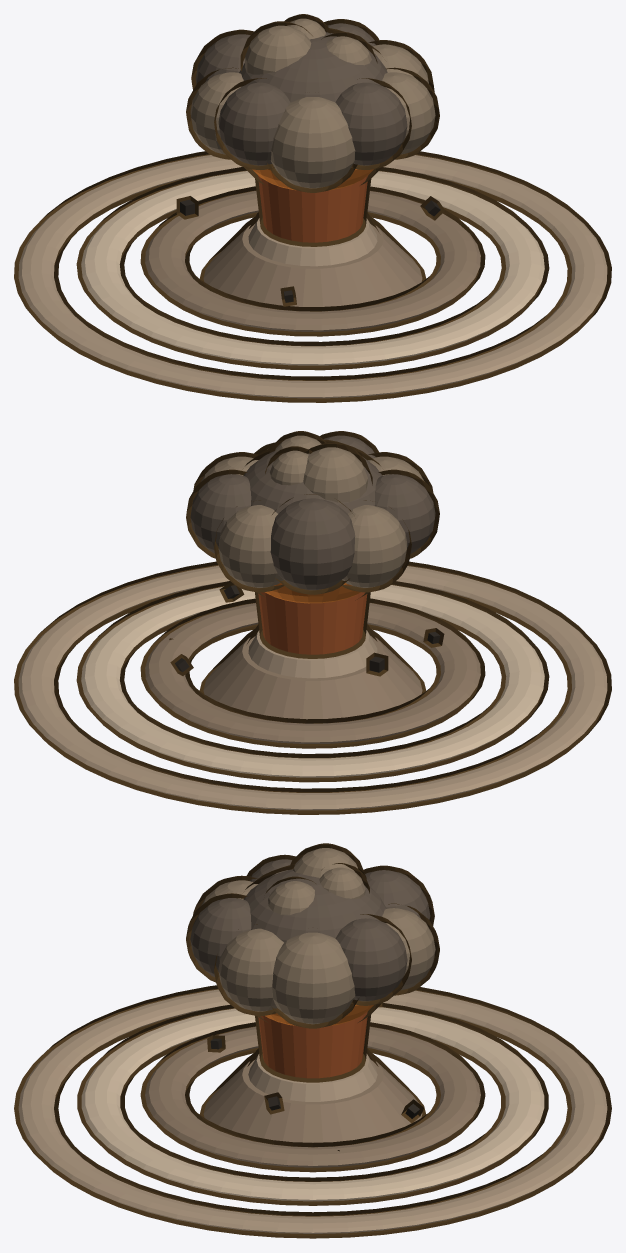
Rendered from mushroom_cloud.glb.
3 views of the same model, one above another, from view 1: azimuth 30°, elevation 25°; view 2: azimuth 150°, elevation 25°; view 3: azimuth 270°, elevation 25° (orthographic).
Parts seen in each view (by area): view 1: _MeshInstance3D_50, _MeshInstance3D_21, _MeshInstance3D_22, _MeshInstance3D_23, _MeshInstance3D_24, _MeshInstance3D_38, _MeshInstance3D_26, _MeshInstance3D_31, _MeshInstance3D_37, _MeshInstance3D_39, _MeshInstance3D_25, _MeshInstance3D_41 (+6 smaller); view 2: _MeshInstance3D_50, _MeshInstance3D_21, _MeshInstance3D_22, _MeshInstance3D_23, _MeshInstance3D_24, _MeshInstance3D_35, _MeshInstance3D_26, _MeshInstance3D_36, _MeshInstance3D_34, _MeshInstance3D_33, _MeshInstance3D_37, _MeshInstance3D_41 (+6 smaller); view 3: _MeshInstance3D_50, _MeshInstance3D_21, _MeshInstance3D_22, _MeshInstance3D_23, _MeshInstance3D_24, _MeshInstance3D_32, _MeshInstance3D_26, _MeshInstance3D_31, _MeshInstance3D_33, _MeshInstance3D_40, _MeshInstance3D_39, _MeshInstance3D_25 (+6 smaller).
Part boxes in pixels (<box>): _MeshInstance3D_50: <box>14,14,611,402</box>; _MeshInstance3D_21: <box>18,155,607,398</box>; _MeshInstance3D_22: <box>81,171,544,365</box>; _MeshInstance3D_23: <box>145,191,480,331</box>; _MeshInstance3D_24: <box>203,223,422,306</box>; _MeshInstance3D_38: <box>271,97,355,188</box>; _MeshInstance3D_26: <box>258,175,368,242</box>; _MeshInstance3D_31: <box>239,32,387,102</box>; _MeshInstance3D_37: <box>218,82,290,165</box>; _MeshInstance3D_39: <box>335,82,407,165</box>; _MeshInstance3D_25: <box>248,218,377,266</box>; _MeshInstance3D_41: <box>245,25,311,74</box>; _MeshInstance3D_50: <box>14,431,611,814</box>; _MeshInstance3D_21: <box>18,565,607,810</box>; _MeshInstance3D_22: <box>81,585,544,777</box>; _MeshInstance3D_23: <box>145,603,480,743</box>; _MeshInstance3D_24: <box>203,636,422,719</box>; _MeshInstance3D_35: <box>270,498,355,590</box>; _MeshInstance3D_26: <box>258,592,367,654</box>; _MeshInstance3D_36: <box>342,505,407,587</box>; _MeshInstance3D_34: <box>218,505,283,587</box>; _MeshInstance3D_33: <box>190,474,251,553</box>; _MeshInstance3D_37: <box>375,474,435,553</box>; _MeshInstance3D_41: <box>303,447,367,502</box>; _MeshInstance3D_50: <box>14,843,611,1238</box>; _MeshInstance3D_21: <box>18,989,607,1233</box>; _MeshInstance3D_22: <box>81,1007,544,1201</box>; _MeshInstance3D_23: <box>145,1026,480,1167</box>; _MeshInstance3D_24: <box>203,1060,422,1142</box>; _MeshInstance3D_32: <box>272,932,355,1024</box>; _MeshInstance3D_26: <box>258,1011,367,1078</box>; _MeshInstance3D_31: <box>243,869,386,942</box>; _MeshInstance3D_33: <box>335,918,407,1001</box>; _MeshInstance3D_40: <box>218,928,283,1011</box>; _MeshInstance3D_39: <box>190,898,251,976</box>; _MeshInstance3D_25: <box>248,1054,377,1101</box>.
Bounding box in the file's own units: 18.58 × 8.83 × 18.58.
